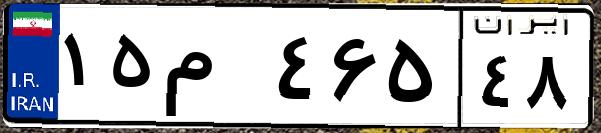1: (57, 26, 110, 100)
4: (270, 28, 330, 110), (475, 38, 525, 113)
5: (385, 28, 445, 110), (110, 28, 158, 98)
6: (330, 28, 385, 110)
8: (525, 38, 570, 115)
م: (158, 20, 270, 120)
